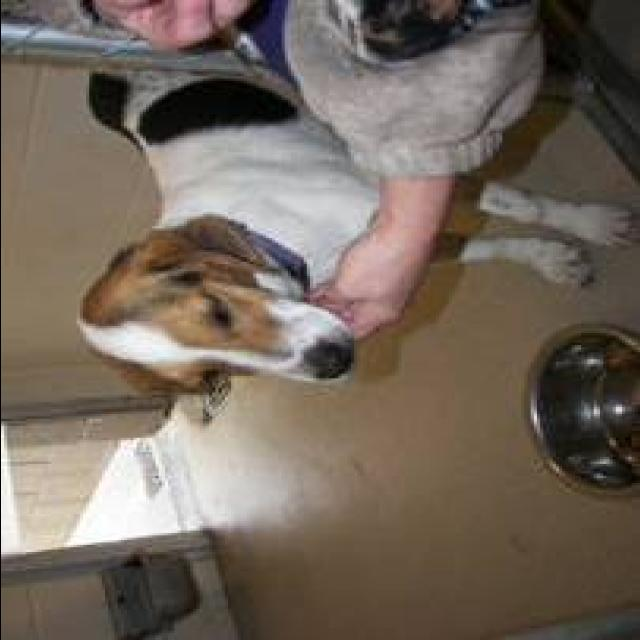dog: (46, 60, 566, 392)
